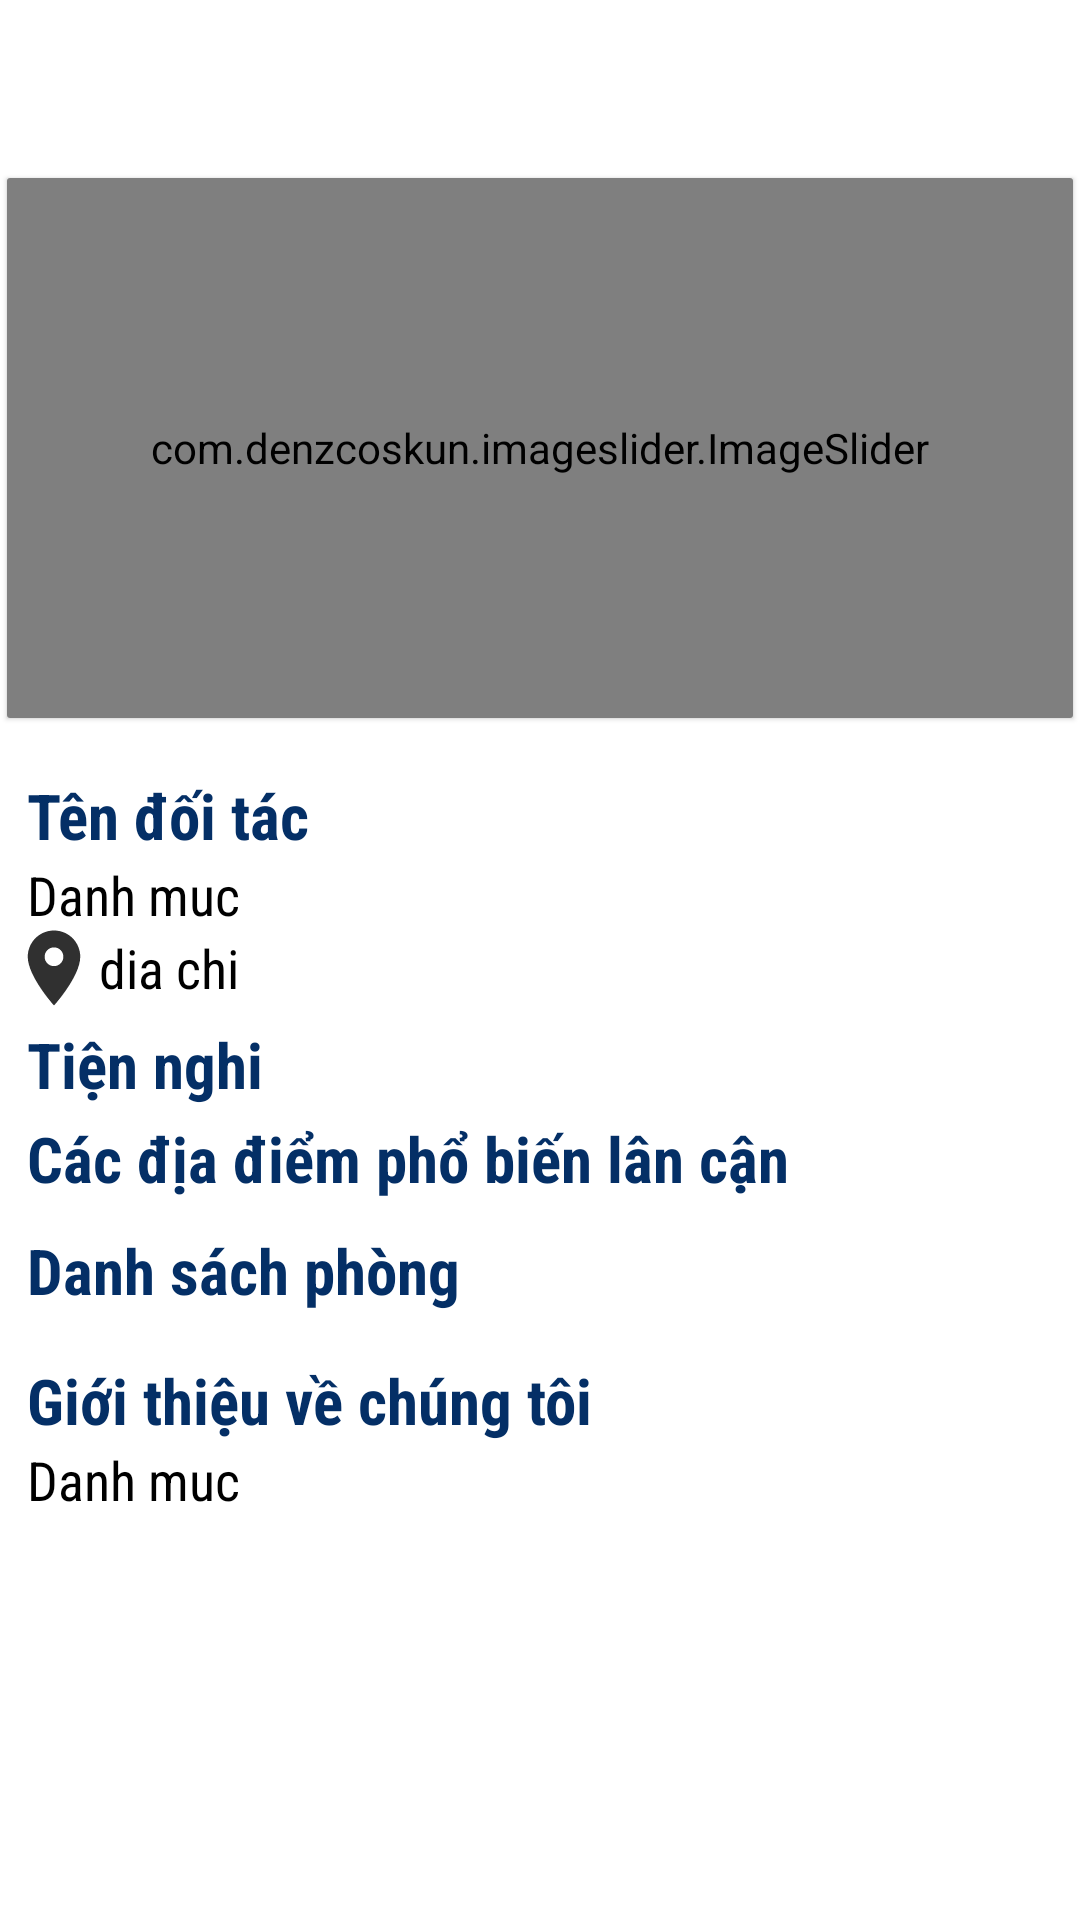

Screen size 1080 × 1920. Icon name, then its center in pixels as (x=x, y=y):
location: (x=54, y=967)
